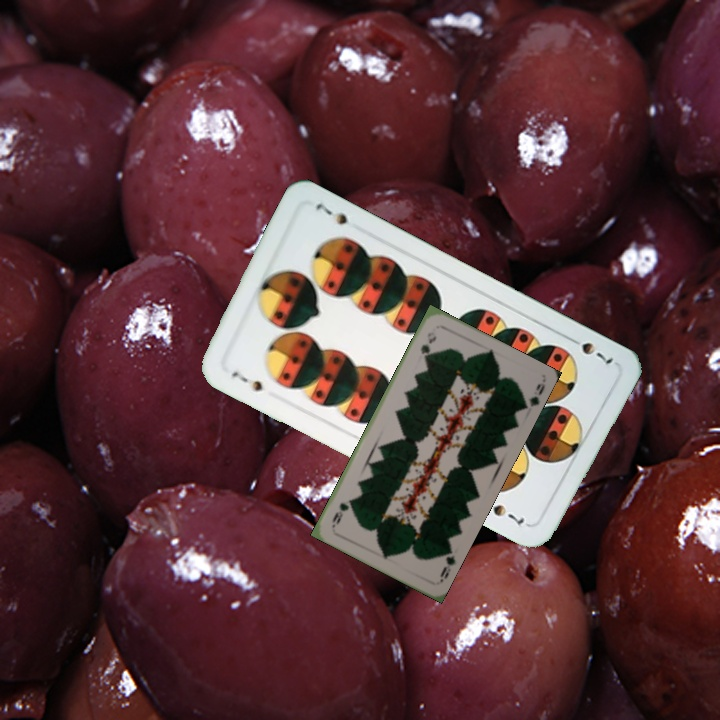G9: (436, 544, 458, 585), (417, 327, 438, 361)
S7: (563, 332, 616, 367), (227, 366, 266, 394)
